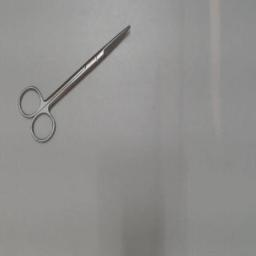Curved Mayo Scissors: (14, 19, 134, 147)
